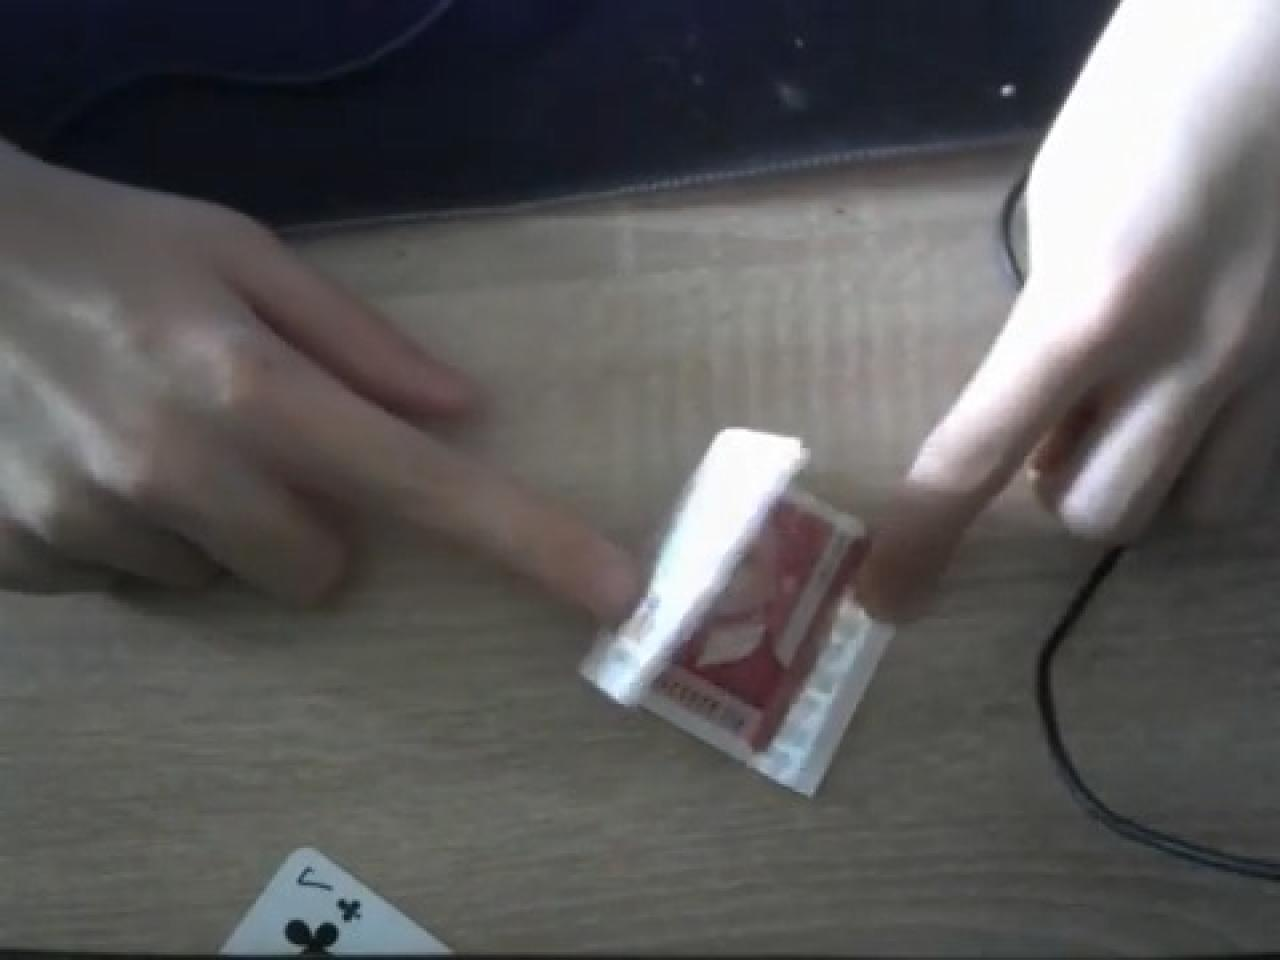5leva: (579, 430, 885, 798)
